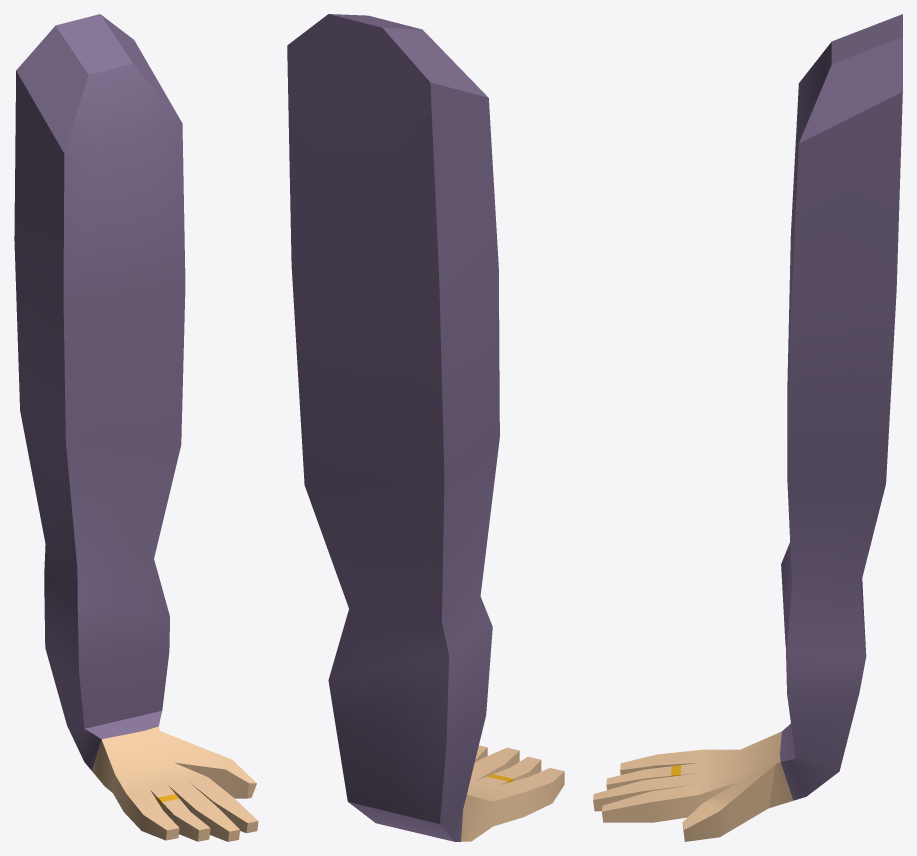
The model's file is arm90purplewithring.fbx.
The picture shows the model from 3 angles, left to right: view 1: azimuth 30°, elevation 25°; view 2: azimuth 150°, elevation 25°; view 3: azimuth 270°, elevation 25°; orthographic projection. The views are drawn at different scales.
Visible parts, largest first — view 1: Arm90Longer; view 2: Arm90Longer; view 3: Arm90Longer.
Boxes of the visible parts, x1,y1,x2,y2 form: Arm90Longer: (14,14,258,841); Arm90Longer: (287,14,564,841); Arm90Longer: (593,14,902,841).
Size of the model in its own units: 342 by 1645 by 592.
